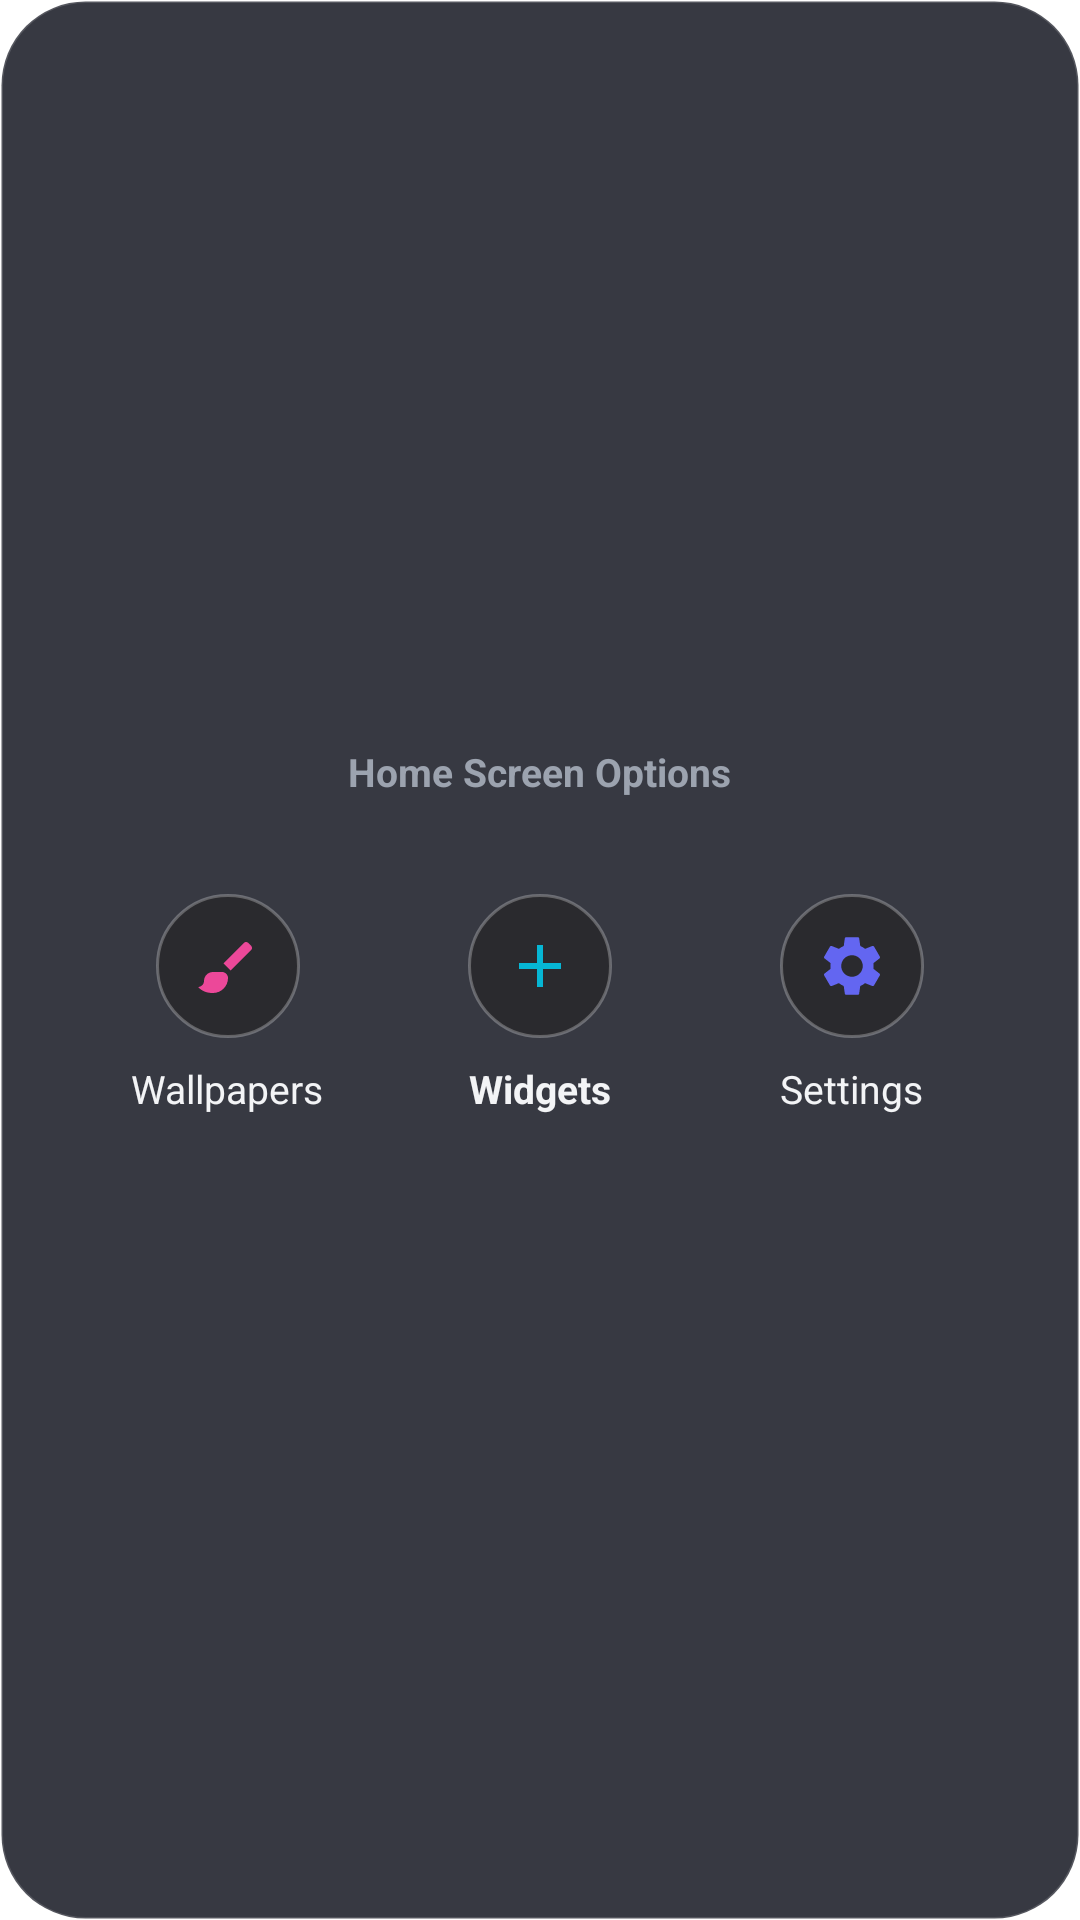

Icons on this 1080px x 1920px Android screen, each with its box as [left=x1, top=y1, right=x2, bottom=y2]:
plus: [left=468, top=894, right=612, bottom=1038]
